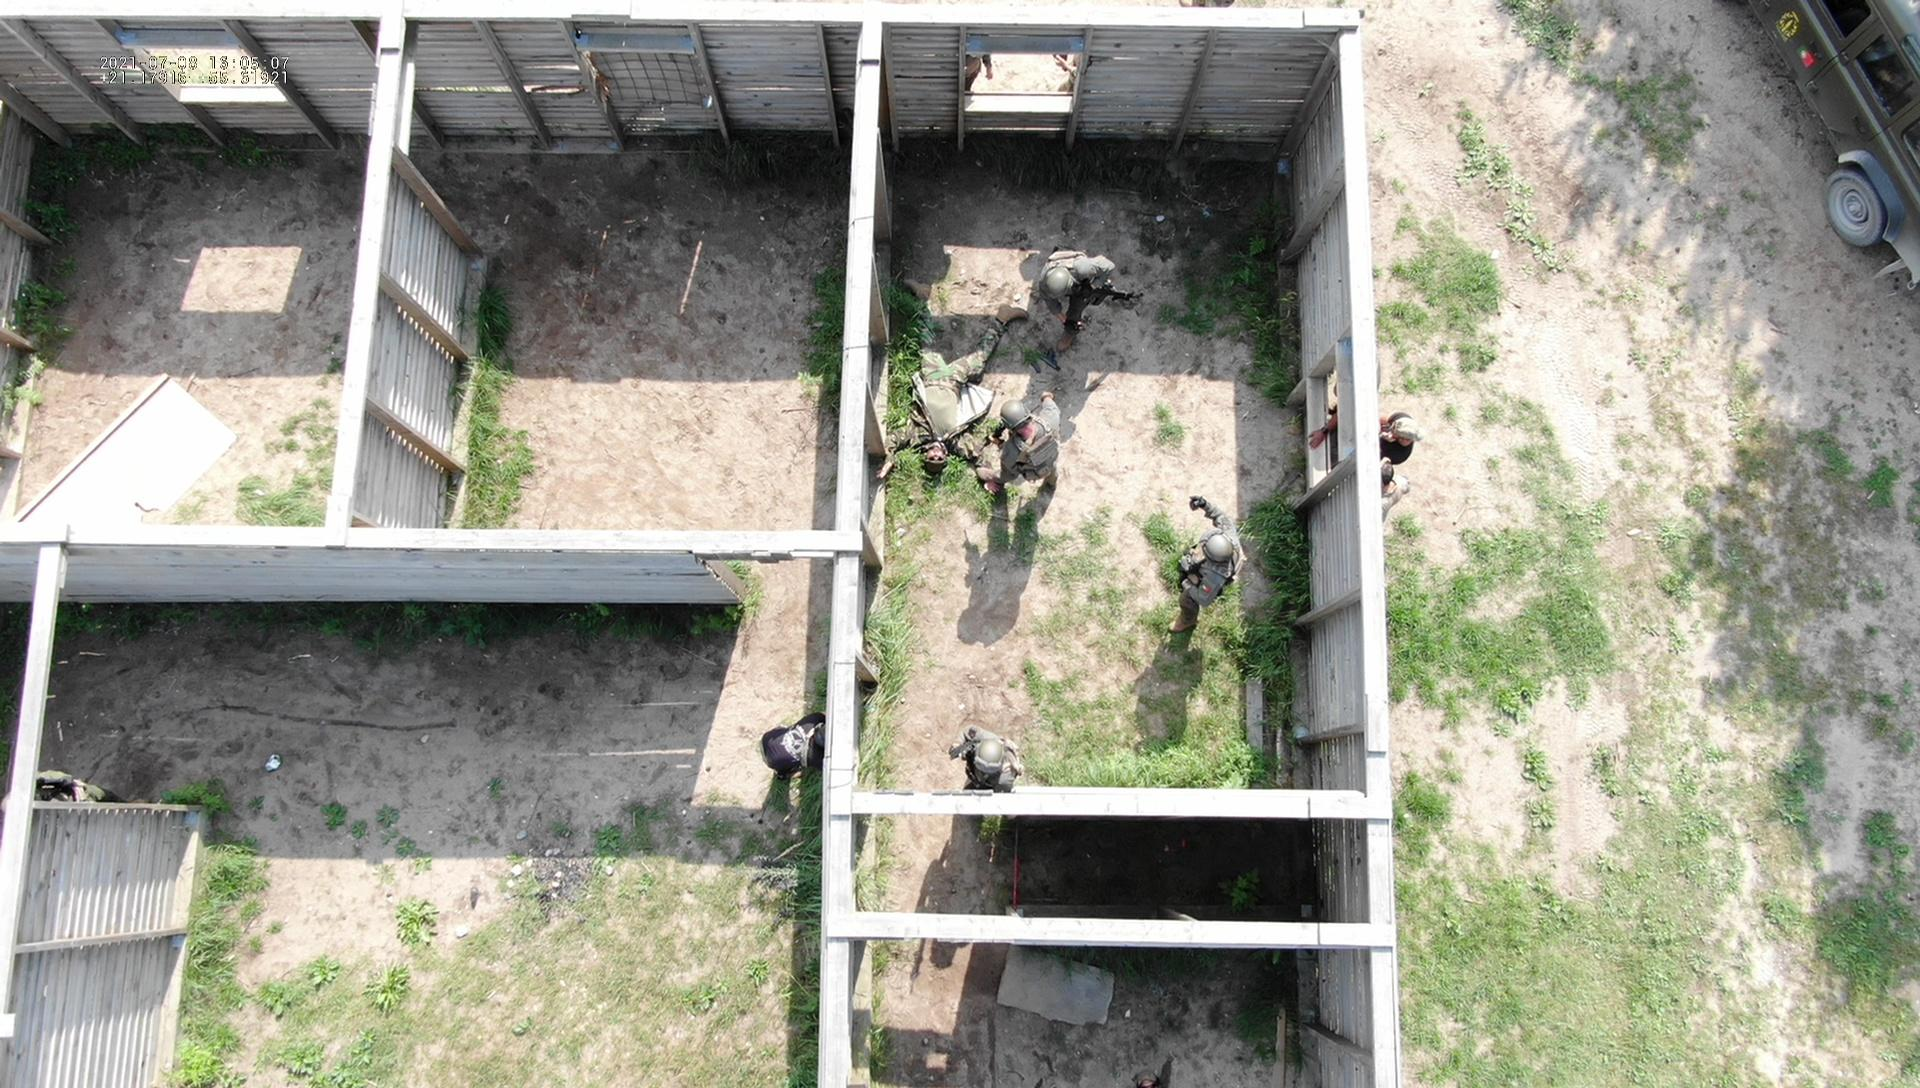Soldier: (869, 272, 982, 525), (1031, 222, 1124, 373), (1166, 495, 1263, 629), (988, 377, 1083, 509), (948, 710, 1042, 803)
